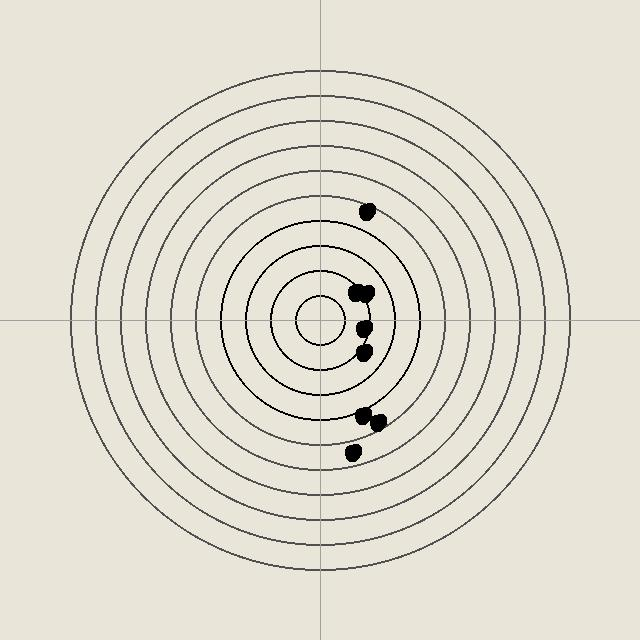vertical_scatter: (353, 318, 373, 338), (342, 442, 362, 462), (352, 405, 372, 425), (355, 283, 375, 303), (353, 342, 373, 362), (356, 201, 376, 221), (367, 412, 387, 432), (345, 282, 365, 302)
